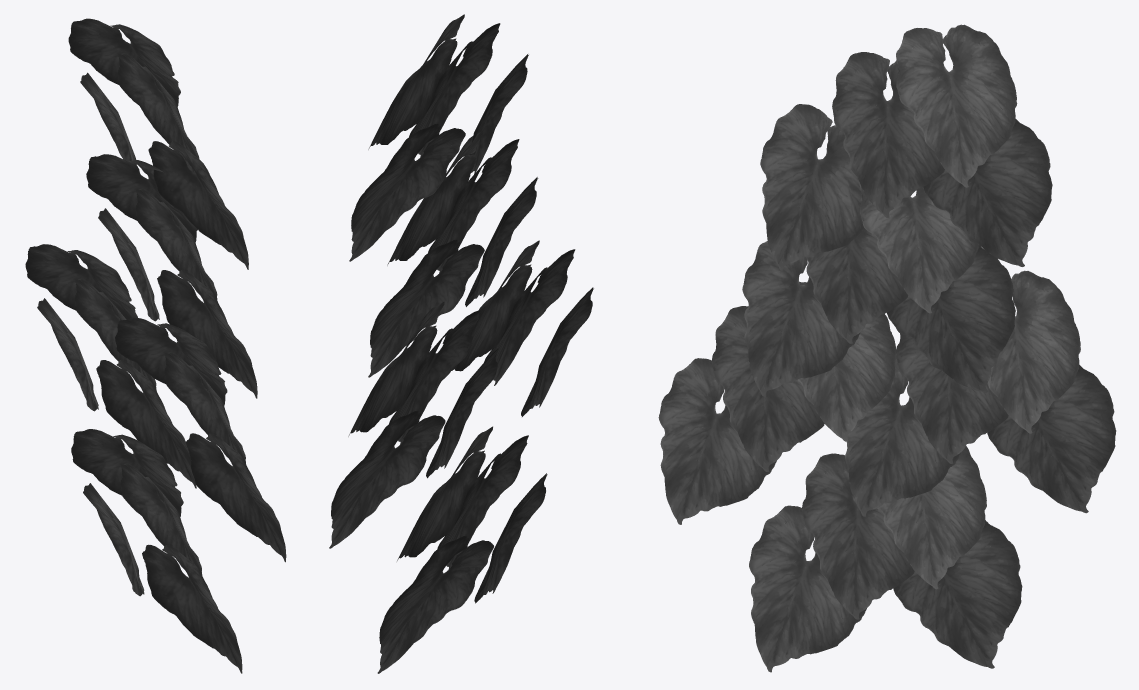
File: Wall Leaf1.fbx
The picture shows the model from 3 angles, left to right: view 1: azimuth 30°, elevation 25°; view 2: azimuth 150°, elevation 25°; view 3: azimuth 270°, elevation 25°; orthographic projection. The views are drawn at different scales.
Parts seen in each view (by area): view 1: Plane; view 2: Plane; view 3: Plane.
Part boxes in pixels (x1,y1,x2,y2): Plane: [25, 18, 286, 673]; Plane: [329, 14, 593, 673]; Plane: [658, 24, 1116, 672].
Size of the model in its own units: 0.7098 by 3.93 by 2.77.
